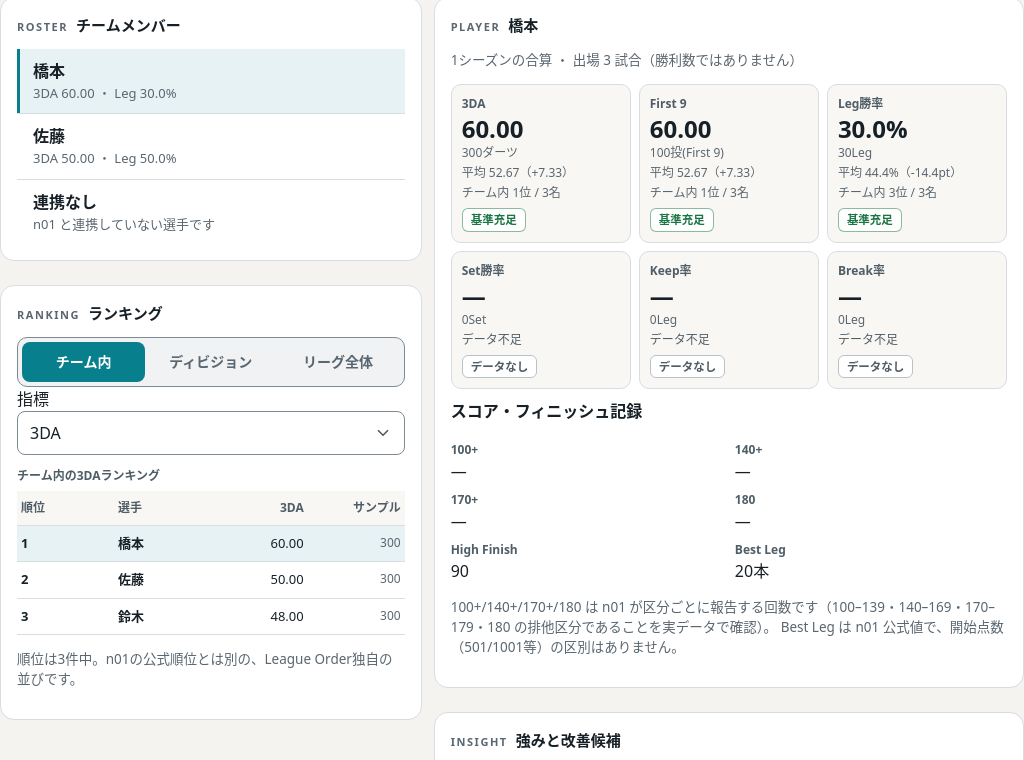
Scenario: PlayerAnalytics screen › changing the population recalculates the ranking
The image size is (1024, 760).
Click the button "リーグ全体" at (338, 362), box [276,342,400,382]
(page scrolled)
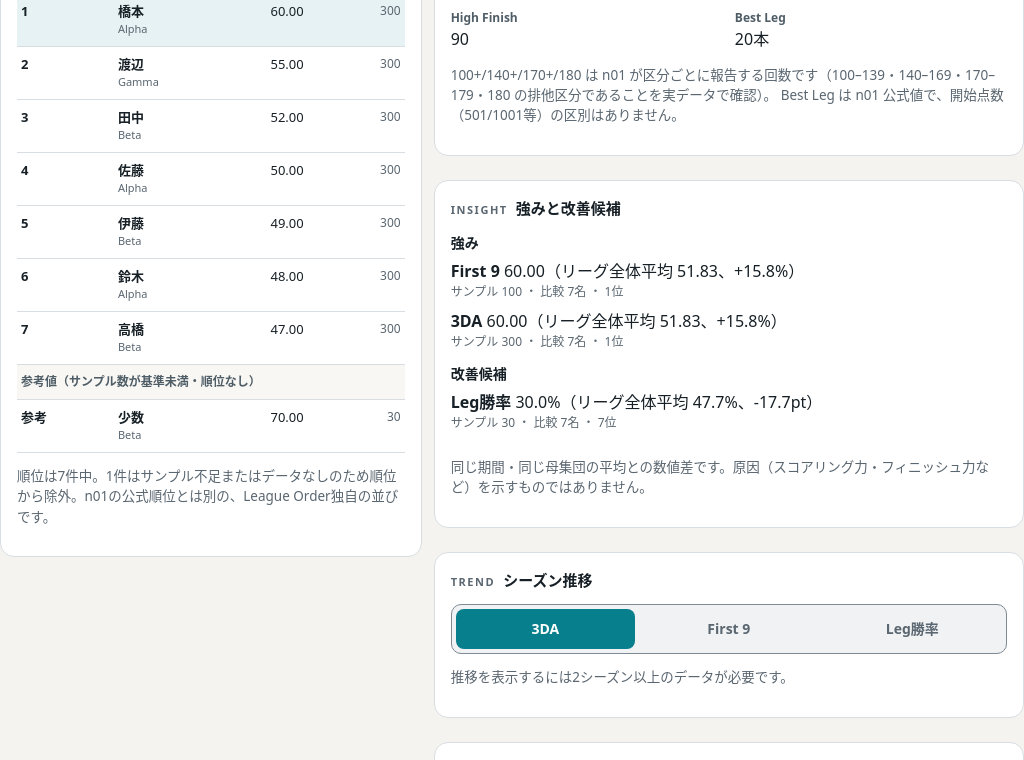
Now the column heading "渡辺" is shown, box [118,54,144,72]
Now the column heading "少数" is shown, box [118,408,144,426]
Now the column heading "参考値（サンプル数が基準未満・順位なし）" is shown, box [17,364,405,399]
